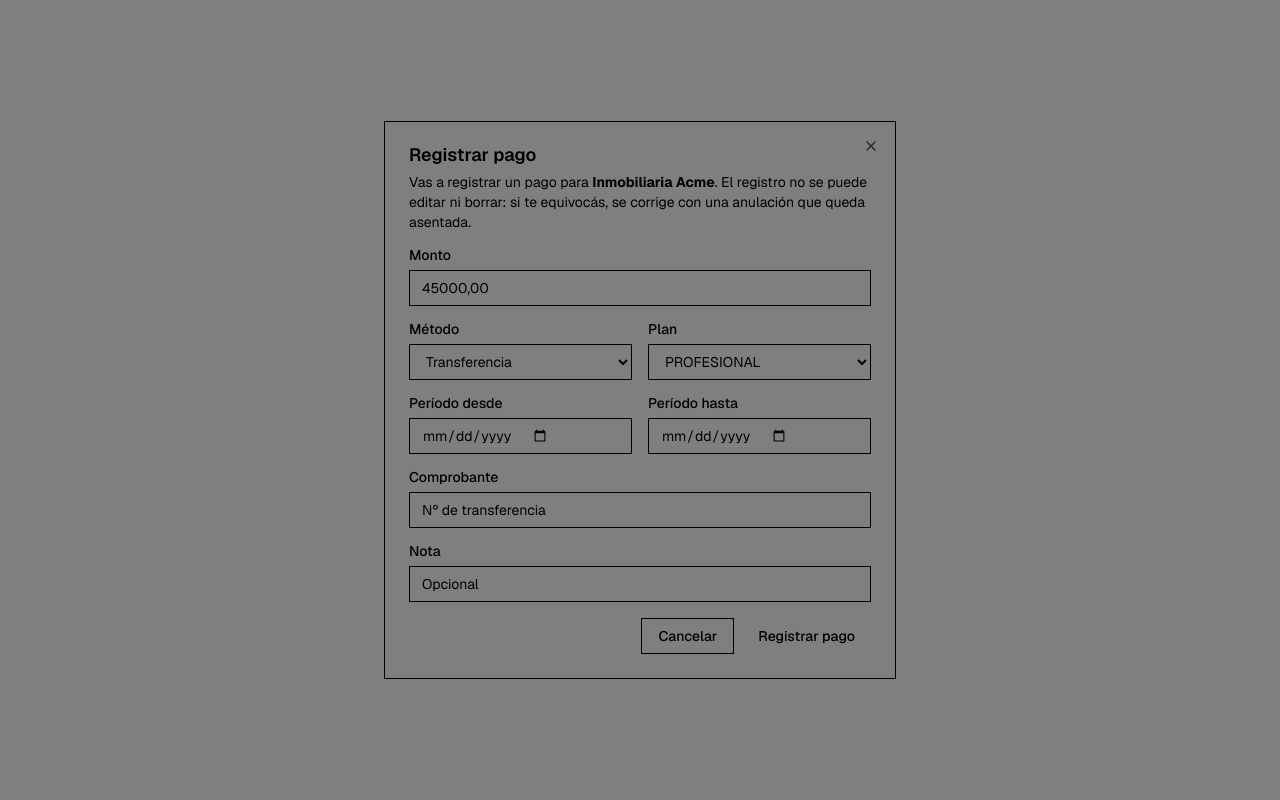
Test case: RecordPaymentDialog › rejects an invalid amount inline without submitting
The width and height of the screenshot is (1280, 800).
Type "45000.567" into the field labelled "Monto" at (640, 288), box [409,270,871,306]
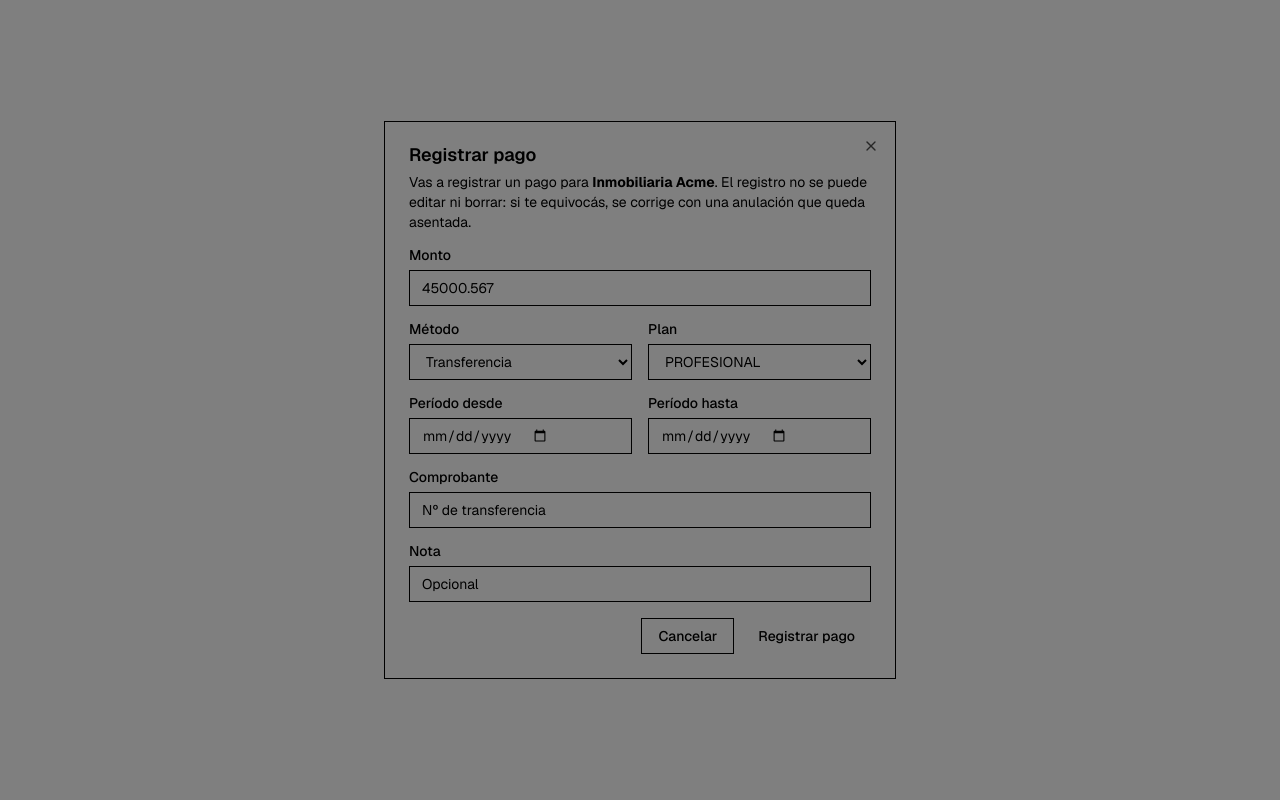
Type "2026-08-01" into the date field labelled "Período desde" at (520, 436), box [409,418,632,454]
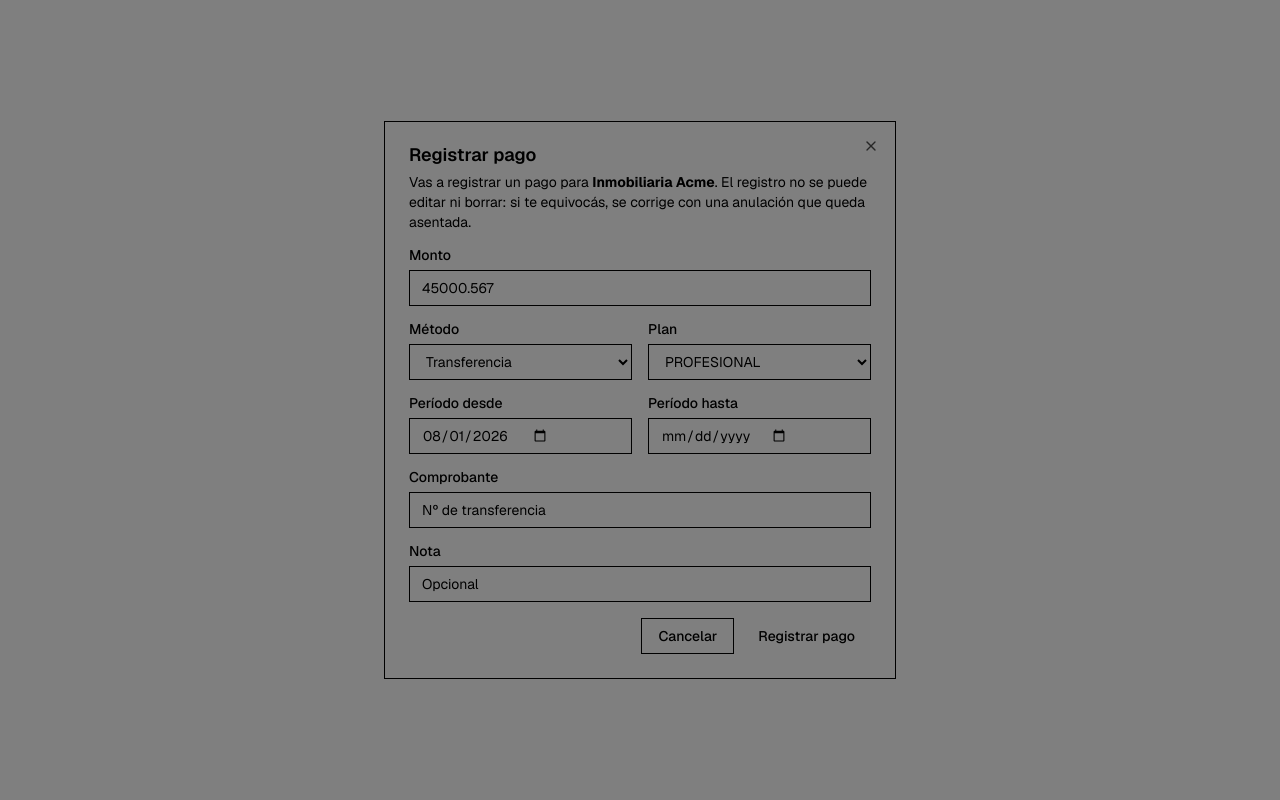
Type "2026-08-31" into the date field labelled "Período hasta" at (760, 436), box [648,418,871,454]
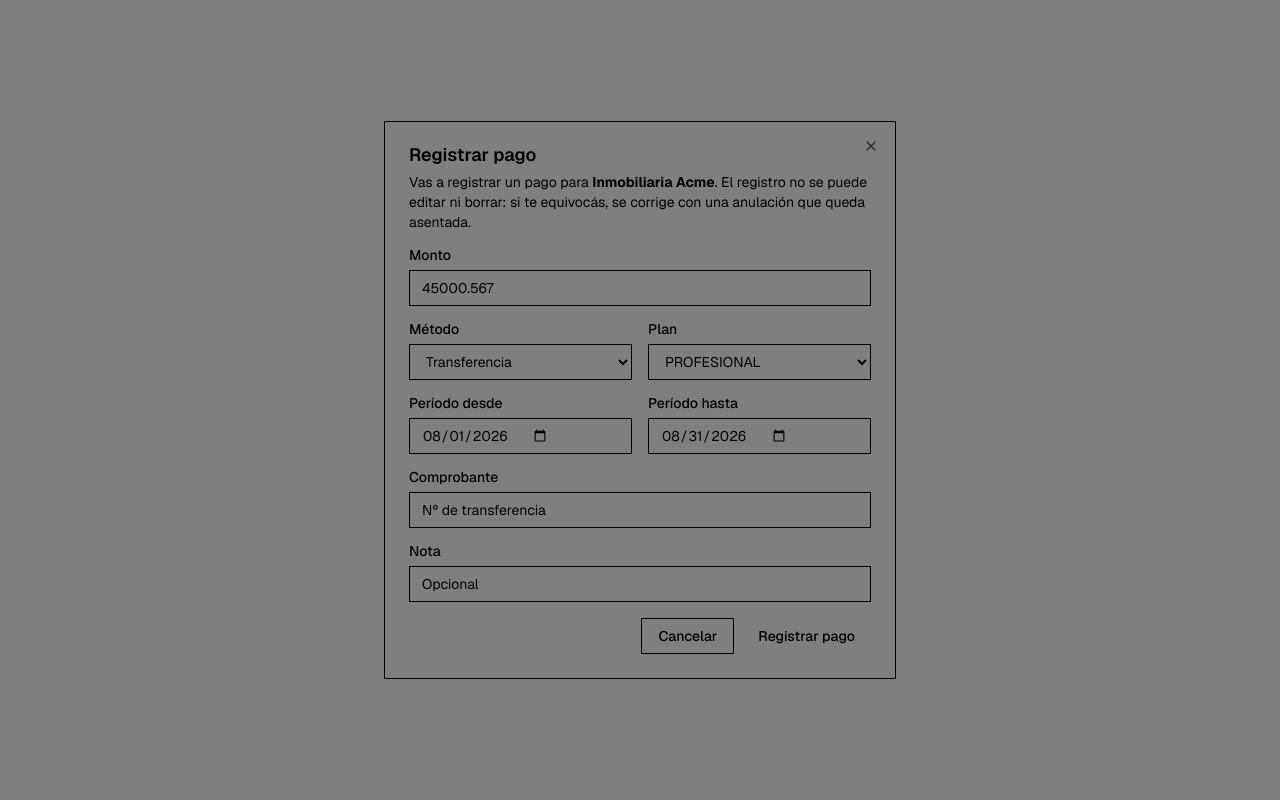
Click the button "Registrar pago" at (807, 636), box [742,618,871,654]
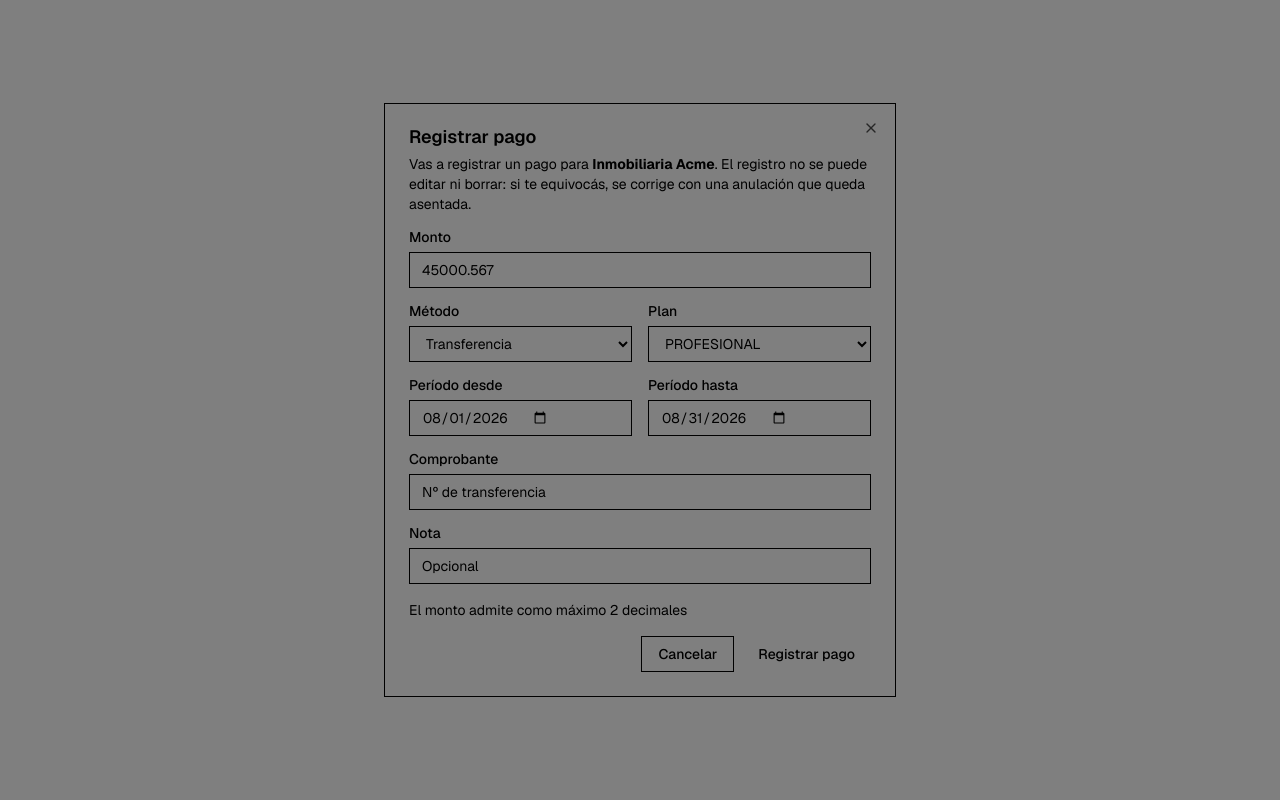
Result: the message "El monto admite como máximo 2 decimales" is shown at [409,601,687,619]
